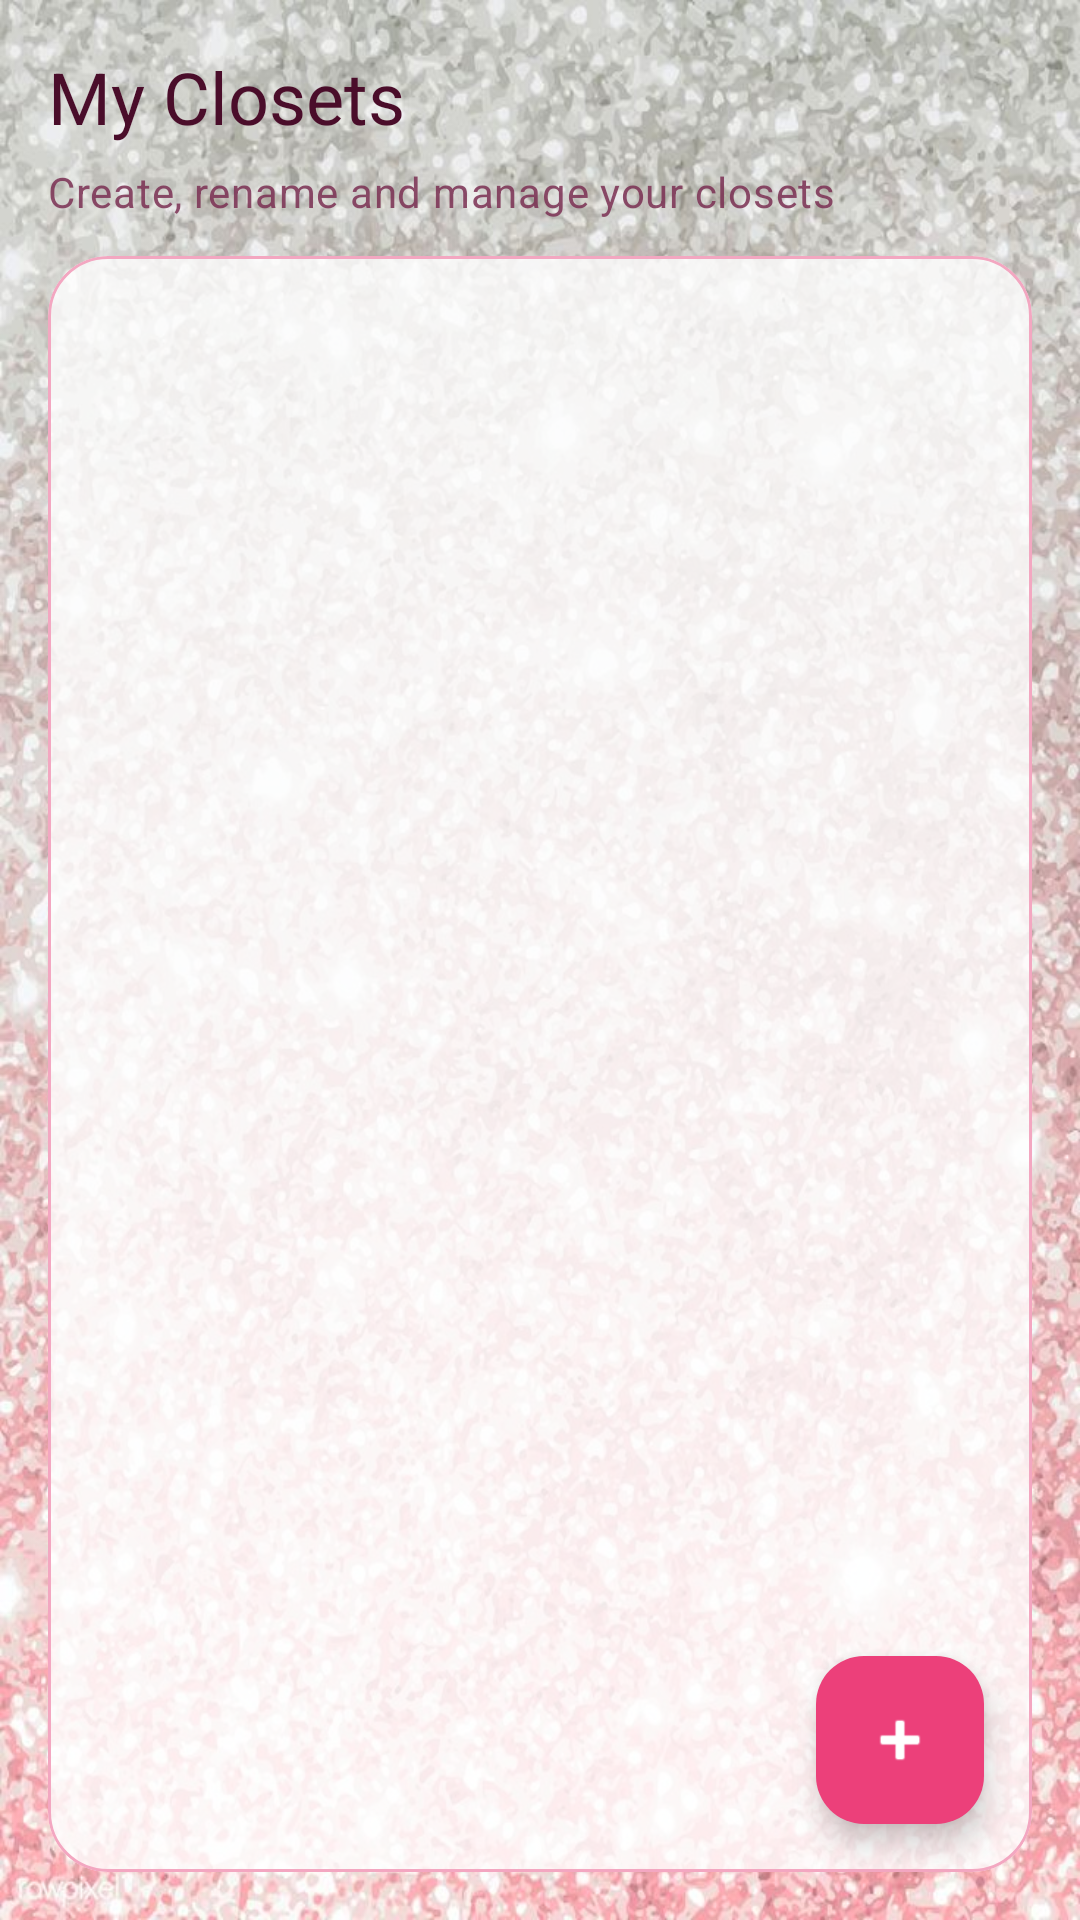

Icon click points for this 1080x1920 phone screenshot, format (x=x, y=y):
Add Closet: (x=900, y=1740)
